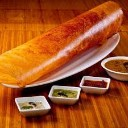dosa: (1, 2, 124, 88)
